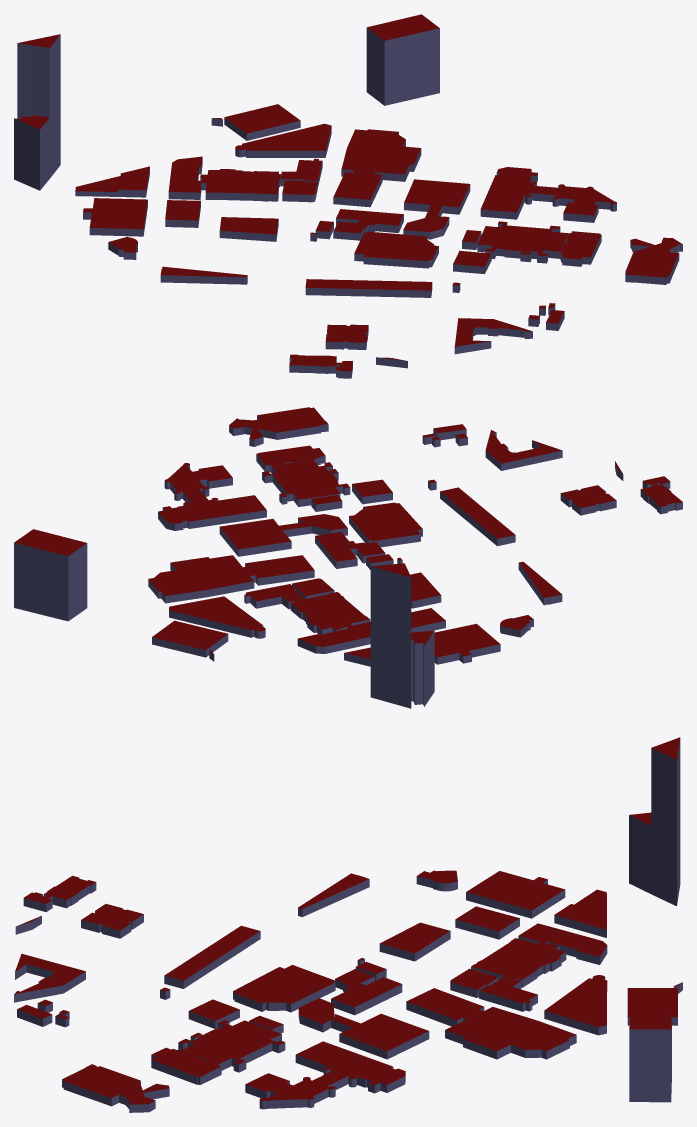
The model's file is tile-buildings(-84.390000,33.750000,-84.385000,33.755000).osm.obj.
The picture shows the model from 3 angles, top to bottom: view 1: azimuth 30°, elevation 25°; view 2: azimuth 150°, elevation 25°; view 3: azimuth 270°, elevation 25°; orthographic projection. The views are drawn at different scales.
Parts seen in each view (by area): view 1: Building Robert W. Woodruff Volunteer Service Center Building, Building 34 Peachtree St. Building, Building Sports Arena, Building G Deck, Building William-Oliver Building, Building Natural Science Center, Building15, Building8, Building Petit Science Center, Building Georgia Railroad Freight Depot, Building Library North, Building 25 Park Place (Annex) (+21 smaller); view 2: Building Robert W. Woodruff Volunteer Service Center Building, Building 34 Peachtree St. Building, Building Sports Arena, Building G Deck, Building Petit Science Center, Building15, Building Natural Science Center, Building8, Building Library North, Building Student Center West, Building 25 Park Place (Annex), Building Kell Hall (+21 smaller); view 3: Building 34 Peachtree St. Building, Building Robert W. Woodruff Volunteer Service Center Building, Building Sports Arena, Building G Deck, Building8, Building Petit Science Center, Building Natural Science Center, Building Arts & Humanities, Building Library North, Building15, Building Georgia Railroad Freight Depot, Building Urban Life Building (+22 smaller).
Part boxes in pixels (x1=…): Building Robert W. Woodruff Volunteer Service Center Building: x1=366, y1=14, x2=439, y2=105; Building 34 Peachtree St. Building: x1=17, y1=34, x2=60, y2=177; Building Sports Arena: x1=477, y1=221, x2=568, y2=263; Building G Deck: x1=354, y1=231, x2=438, y2=268; Building William-Oliver Building: x1=14, y1=115, x2=49, y2=190; Building Natural Science Center: x1=200, y1=169, x2=280, y2=201; Building15: x1=235, y1=123, x2=331, y2=157; Building8: x1=83, y1=198, x2=147, y2=236; Building Petit Science Center: x1=625, y1=237, x2=682, y2=284; Building Georgia Railroad Freight Depot: x1=305, y1=279, x2=432, y2=297; Building Library North: x1=404, y1=179, x2=470, y2=214; Building 25 Park Place (Annex): x1=224, y1=104, x2=300, y2=140; Building Robert W. Woodruff Volunteer Service Center Building: x1=14, y1=529, x2=87, y2=621; Building 34 Peachtree St. Building: x1=370, y1=563, x2=411, y2=708; Building Sports Arena: x1=262, y1=459, x2=350, y2=506; Building G Deck: x1=349, y1=502, x2=422, y2=547; Building Petit Science Center: x1=229, y1=407, x2=328, y2=446; Building15: x1=169, y1=596, x2=265, y2=638; Building Natural Science Center: x1=290, y1=592, x2=370, y2=634; Building8: x1=434, y1=623, x2=500, y2=664; Building Library North: x1=219, y1=519, x2=291, y2=556; Building Student Center West: x1=177, y1=495, x2=266, y2=528; Building 25 Park Place (Annex): x1=152, y1=620, x2=228, y2=657; Building Kell Hall: x1=187, y1=555, x2=254, y2=596; Building 34 Peachtree St. Building: x1=651, y1=737, x2=680, y2=906; Building Robert W. Woodruff Volunteer Service Center Building: x1=629, y1=999, x2=671, y2=1102; Building Sports Arena: x1=178, y1=1020, x2=285, y2=1072; Building G Deck: x1=233, y1=965, x2=335, y2=1012; Building8: x1=466, y1=871, x2=565, y2=918; Building Petit Science Center: x1=62, y1=1064, x2=169, y2=1112; Building Natural Science Center: x1=471, y1=938, x2=566, y2=987; Building Arts & Humanities: x1=463, y1=1020, x2=576, y2=1059; Building Library North: x1=339, y1=1013, x2=429, y2=1059; Building15: x1=544, y1=975, x2=607, y2=1035; Building Georgia Railroad Freight Depot: x1=164, y1=925, x2=260, y2=988; Building Urban Life Building: x1=259, y1=1067, x2=356, y2=1109.
Size of the model in its own units: 460 by 134 by 555.
